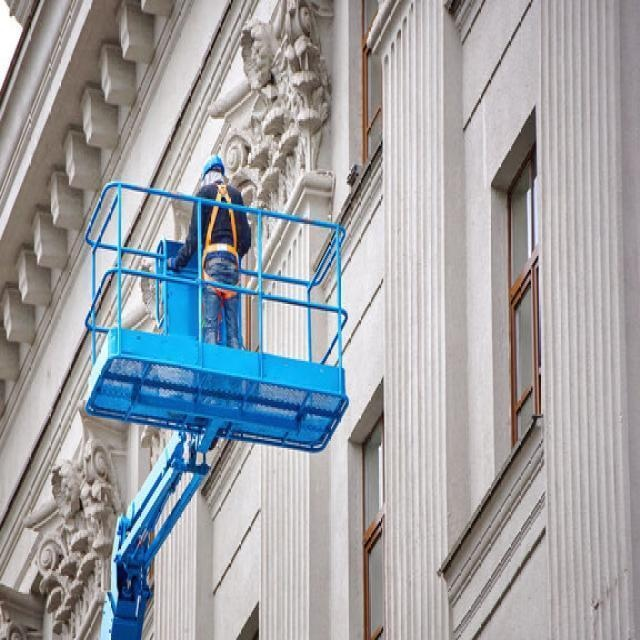Arnes_seguridad: (202, 184, 242, 295)
